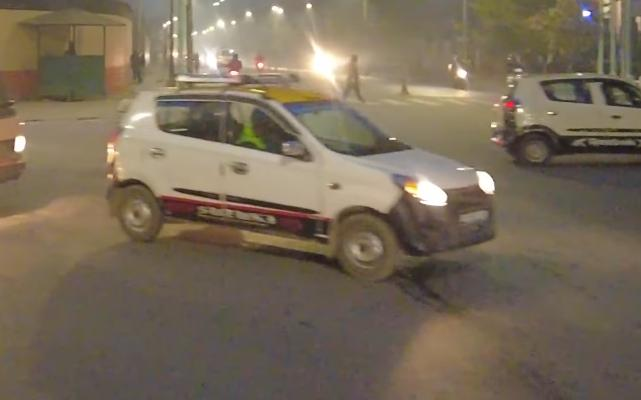taxi: (106, 55, 511, 281), (503, 70, 641, 172)
